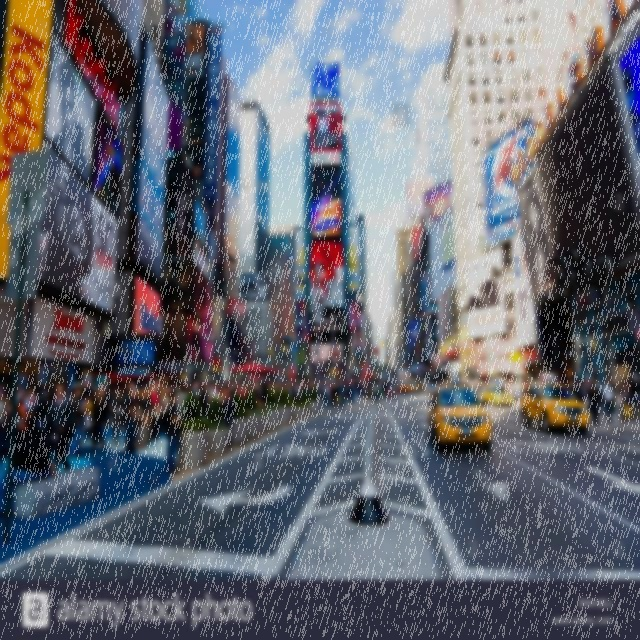pessoa: (35, 50, 98, 303), (0, 415, 52, 519), (520, 179, 556, 290), (38, 381, 76, 472), (485, 125, 520, 208), (462, 368, 534, 406), (168, 84, 194, 176), (164, 388, 184, 476), (206, 378, 274, 403), (68, 383, 87, 459), (308, 344, 348, 377), (0, 379, 36, 412), (290, 376, 326, 408), (0, 392, 16, 459), (109, 388, 127, 445), (138, 388, 154, 452), (64, 378, 106, 402), (124, 387, 139, 454), (90, 390, 106, 452), (109, 382, 127, 432), (618, 372, 638, 417), (221, 384, 234, 451), (311, 107, 341, 135), (92, 390, 106, 446), (124, 381, 136, 442), (586, 381, 601, 428), (80, 392, 94, 442), (476, 262, 499, 292), (150, 385, 162, 441), (133, 388, 144, 449), (410, 372, 436, 397), (600, 377, 616, 417), (32, 388, 46, 433), (145, 384, 155, 444), (603, 378, 616, 423), (14, 396, 30, 431), (618, 381, 630, 424), (44, 393, 54, 438), (174, 385, 187, 418), (158, 382, 166, 435), (198, 383, 210, 416), (606, 378, 616, 414), (353, 304, 362, 344), (442, 187, 457, 211), (580, 376, 596, 398), (594, 377, 605, 408), (423, 198, 434, 229), (186, 378, 202, 399), (0, 391, 6, 446), (274, 378, 292, 396), (104, 388, 112, 426), (322, 380, 332, 410), (328, 376, 348, 391), (368, 376, 378, 404), (166, 379, 187, 392), (152, 378, 162, 405), (338, 379, 347, 409), (132, 380, 146, 398), (574, 379, 584, 404), (40, 383, 56, 398), (334, 380, 342, 408), (330, 382, 338, 409), (89, 401, 95, 435), (388, 378, 396, 400), (349, 380, 356, 404), (566, 378, 574, 398), (358, 376, 369, 390), (357, 380, 363, 403), (363, 380, 369, 403), (382, 378, 388, 401), (80, 401, 85, 426), (272, 382, 280, 397), (352, 374, 358, 394), (348, 376, 352, 404), (553, 370, 561, 382), (146, 378, 153, 388), (378, 383, 382, 399), (165, 388, 170, 398), (344, 390, 348, 400)
